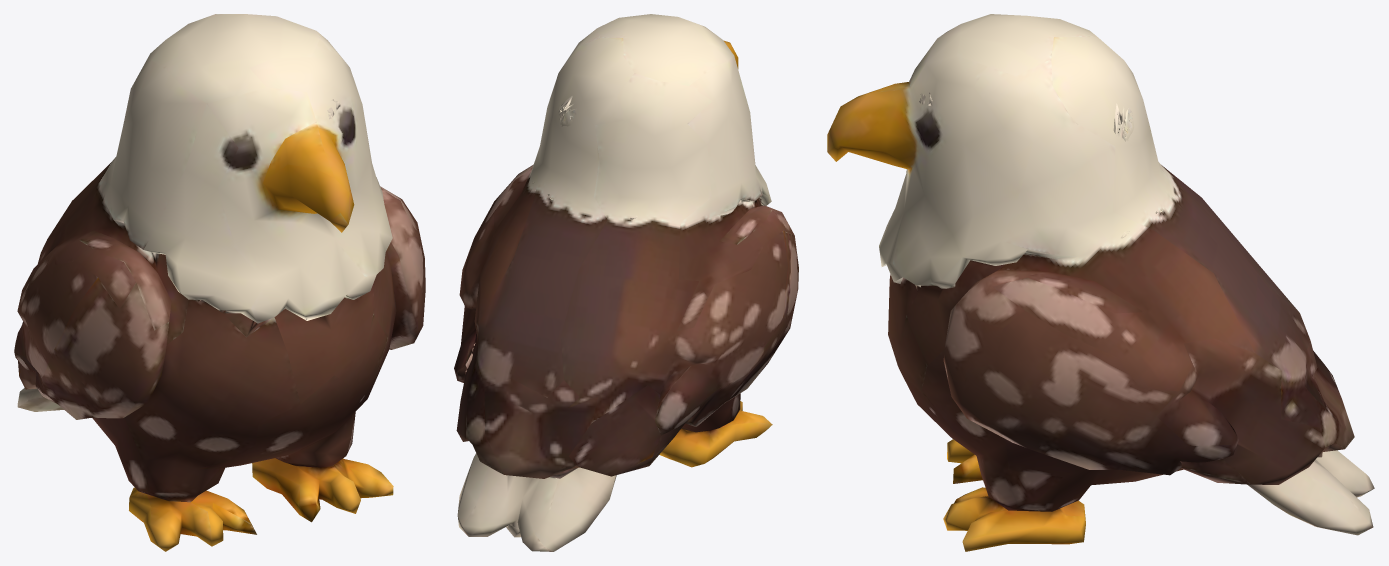
Rendered from eagle.glb.
3 renders of one model, left to right at view 1: azimuth 30°, elevation 25°; view 2: azimuth 150°, elevation 25°; view 3: azimuth 270°, elevation 25°, orthographic. The views are drawn at different scales.
Bounding box in the file's own units: 0.7328 × 0.982 × 0.9995.
Materials: 1 (1 with a texture image).
